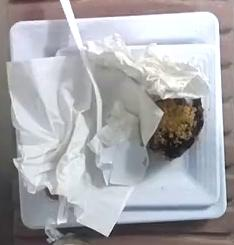dessert: (148, 97, 202, 147)
